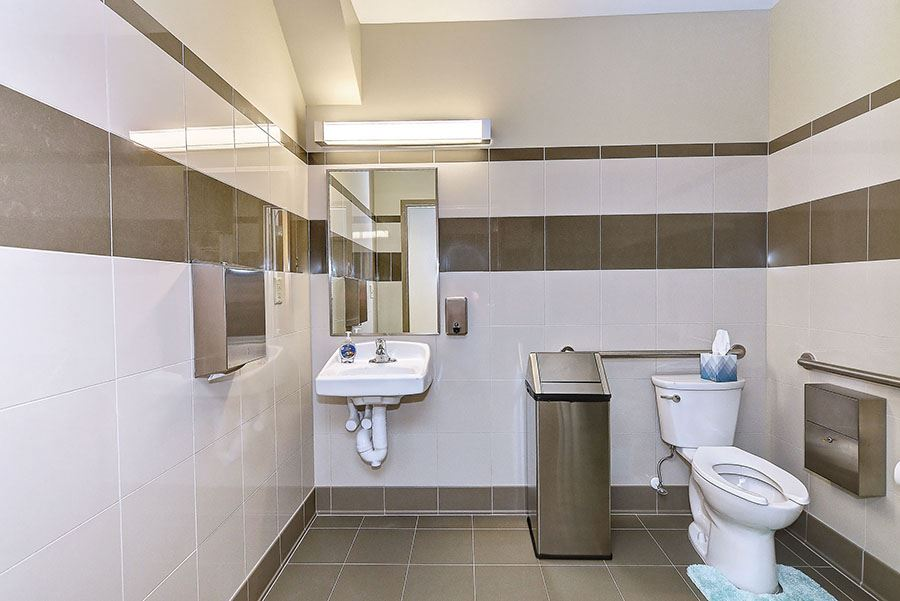dispenser: (192, 262, 267, 382), (699, 330, 739, 383), (444, 291, 469, 343), (340, 331, 357, 361)
faucet: (369, 338, 398, 363)
restroom_assist_bar: (798, 353, 900, 389), (561, 345, 754, 360)
sink: (317, 341, 435, 407)
toilet: (644, 373, 811, 594)
toilet_handle: (659, 391, 686, 406)
waste_bin: (525, 351, 613, 562), (795, 381, 900, 500)
